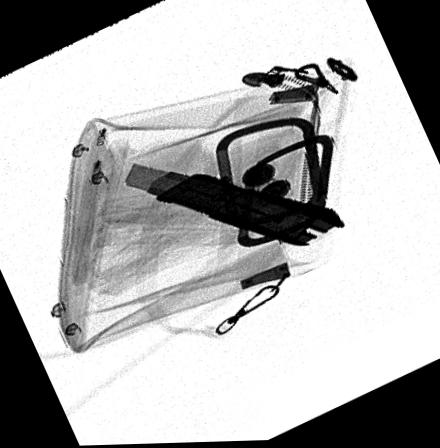Knife: (121, 163, 346, 249)
